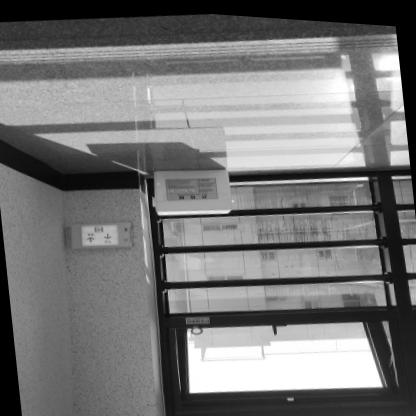DDL: (146, 158, 235, 219)
